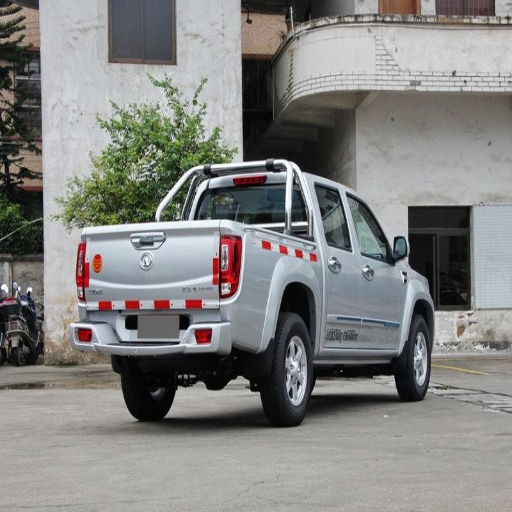back_bumper: (83, 314, 223, 356)
back_right_door: (310, 180, 362, 348)
trunk: (90, 220, 311, 353)
